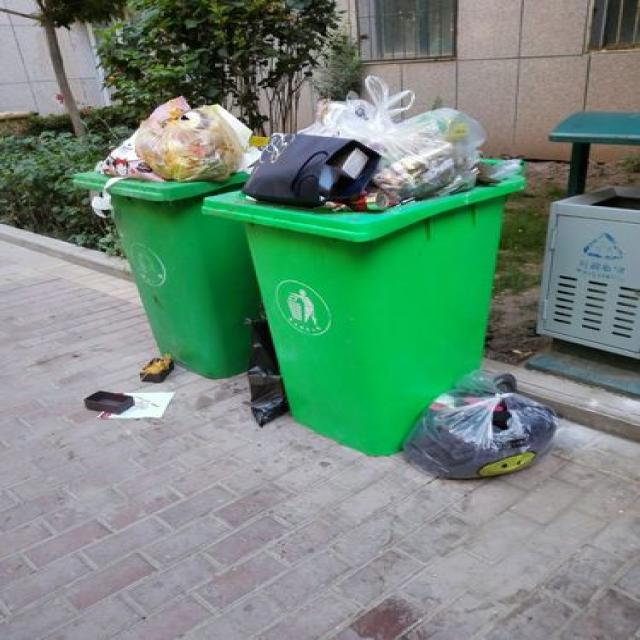garbage: (399, 371, 560, 480), (75, 356, 178, 418), (246, 304, 286, 424)
garbage_bin: (524, 109, 638, 395)
overflow: (198, 74, 519, 454), (70, 95, 265, 378)
